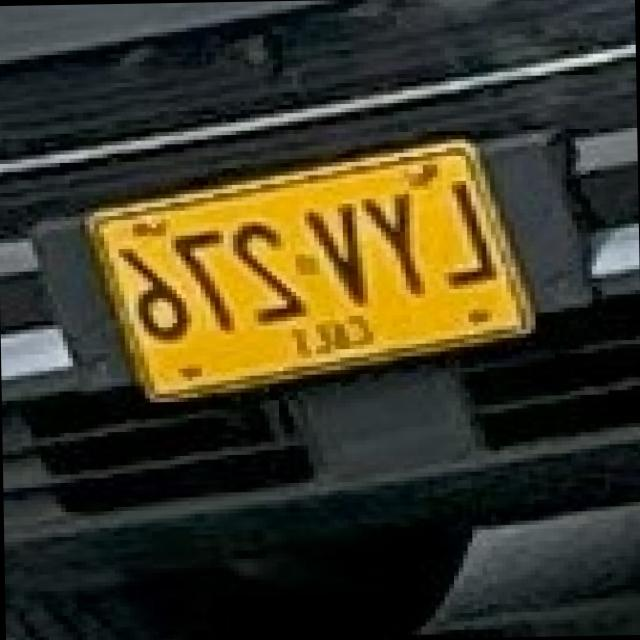number plate: (94, 135, 539, 393)
